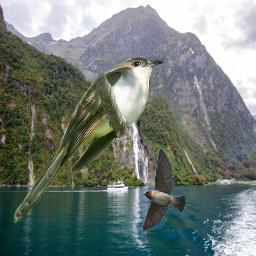Cuckoo: (11, 55, 165, 227)
Swallow: (142, 148, 186, 231)
